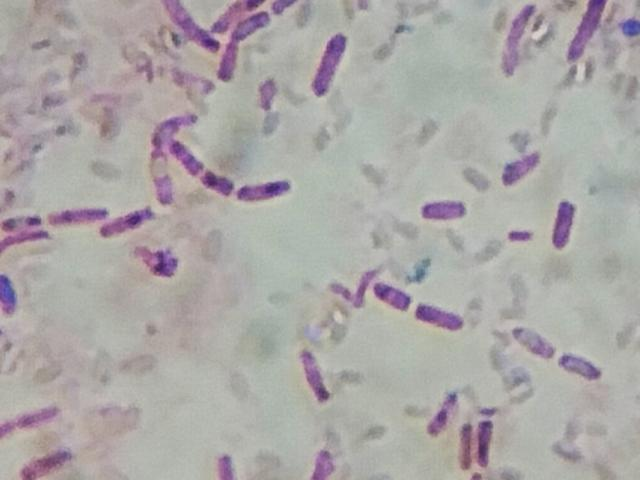E. coli: (313, 27, 351, 106), (505, 0, 536, 81), (143, 122, 172, 204), (164, 1, 211, 49), (569, 0, 602, 65), (300, 346, 331, 406), (17, 444, 73, 477), (514, 319, 555, 362), (0, 405, 56, 435), (420, 297, 465, 334), (233, 177, 298, 202), (96, 210, 159, 233), (563, 346, 601, 384), (45, 206, 109, 227), (426, 386, 454, 432), (374, 279, 411, 313), (420, 196, 465, 223), (552, 196, 577, 244), (0, 234, 60, 254), (503, 149, 539, 182), (237, 9, 270, 40), (2, 208, 46, 231), (175, 140, 202, 176), (217, 41, 242, 79), (479, 406, 495, 463), (3, 268, 21, 317), (206, 167, 232, 198), (218, 2, 250, 26), (462, 418, 477, 469), (219, 450, 238, 479)
